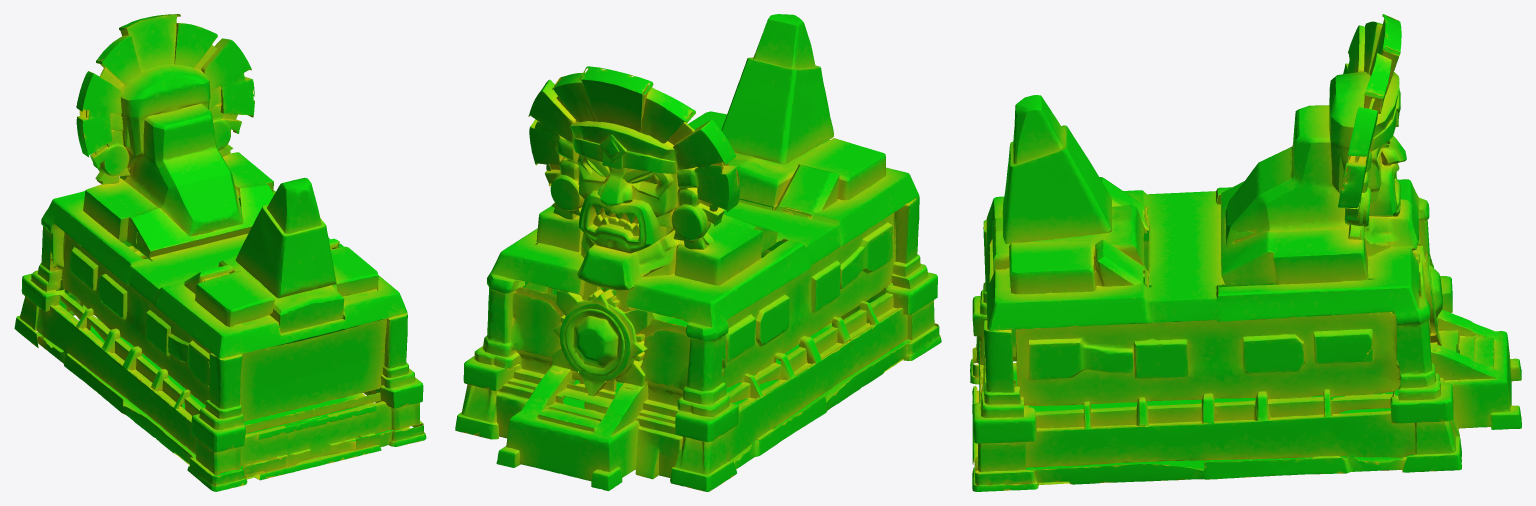
The model's file is idolaltar_outline.fbx.
3 views of the same model, side by side, from view 1: azimuth 30°, elevation 25°; view 2: azimuth 150°, elevation 25°; view 3: azimuth 270°, elevation 25° (orthographic). The views are drawn at different scales.
Visible parts, largest first — view 1: idolaltar_outline; view 2: idolaltar_outline; view 3: idolaltar_outline.
Boxes of the visible parts, x1,y1,x2,y2 form: idolaltar_outline: (14, 14, 426, 491); idolaltar_outline: (455, 14, 941, 491); idolaltar_outline: (970, 14, 1521, 491).
Bounding box in the file's own units: 125 × 180 × 225.
